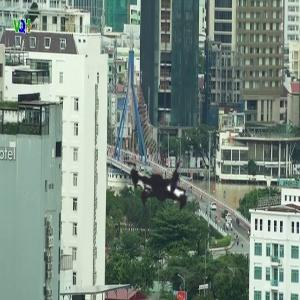drone: (61, 83, 276, 298)
